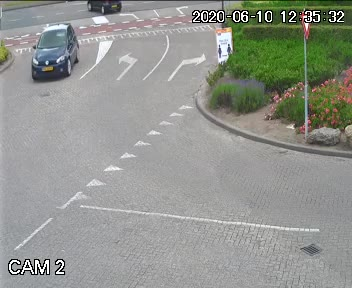car: (28, 21, 87, 83), (83, 0, 123, 15)
